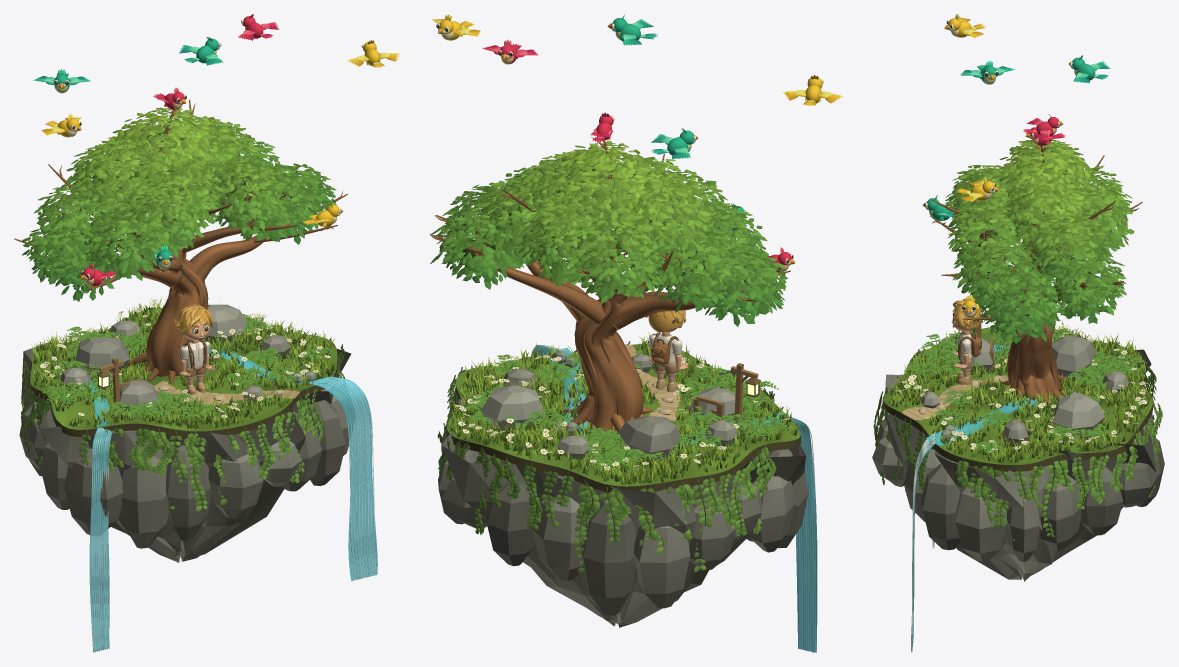
File: ostrov_boy-Bm19IaU4.glb
3 views of the same model, side by side, from view 1: azimuth 30°, elevation 25°; view 2: azimuth 150°, elevation 25°; view 3: azimuth 270°, elevation 25° (orthographic). The views are drawn at different scales.
Parts seen in each view (by area): view 1: Living_tree_leaves, Cliff_and_boulders, Hanging_vines_and_ferns, Windblown_grass, Waterfalls_and_stream, Meadow, Twisted_trunk_and_roots, Waterfall_foam, Earth_under_the_meadow, Wildflowers, Sand_and_path_stones, Perching_branches (+2 smaller); view 2: Living_tree_leaves, Cliff_and_boulders, Hanging_vines_and_ferns, Windblown_grass, Twisted_trunk_and_roots, Meadow, Waterfalls_and_stream, Earth_under_the_meadow, Wildflowers, Sand_and_path_stones, Fence_and_lantern_post, Perching_branches (+1 smaller); view 3: Living_tree_leaves, Cliff_and_boulders, Hanging_vines_and_ferns, Windblown_grass, Meadow, Twisted_trunk_and_roots, Earth_under_the_meadow, Wildflowers, Waterfalls_and_stream, Sand_and_path_stones, Waterfall_foam, Perching_branches (+1 smaller).
Boxes of the visible parts, box(x1,y1,x2,y2) form: Living_tree_leaves: box(22, 107, 336, 301); Cliff_and_boulders: box(19, 304, 354, 562); Hanging_vines_and_ferns: box(21, 302, 345, 511); Windblown_grass: box(31, 296, 336, 428); Waterfalls_and_stream: box(89, 348, 377, 651); Meadow: box(30, 307, 337, 431); Twisted_trunk_and_roots: box(54, 135, 299, 383); Waterfall_foam: box(91, 376, 376, 652); Earth_under_the_meadow: box(30, 361, 337, 438); Wildflowers: box(40, 297, 330, 417); Sand_and_path_stones: box(153, 380, 299, 405); Perching_branches: box(14, 99, 347, 289); Living_tree_leaves: box(430, 141, 787, 326); Cliff_and_boulders: box(438, 351, 808, 627); Hanging_vines_and_ferns: box(437, 341, 802, 574); Windblown_grass: box(448, 332, 801, 485); Twisted_trunk_and_roots: box(464, 157, 751, 432); Meadow: box(446, 344, 800, 486); Waterfalls_and_stream: box(531, 345, 817, 652); Earth_under_the_meadow: box(446, 383, 800, 492); Wildflowers: box(455, 352, 790, 470); Sand_and_path_stones: box(625, 344, 680, 421); Fence_and_lantern_post: box(693, 363, 758, 422); Perching_branches: box(430, 137, 790, 301); Living_tree_leaves: box(945, 139, 1134, 343); Cliff_and_boulders: box(872, 335, 1164, 581); Hanging_vines_and_ferns: box(873, 320, 1162, 540); Windblown_grass: box(886, 320, 1154, 463); Meadow: box(882, 327, 1152, 464); Twisted_trunk_and_roots: box(975, 160, 1102, 406); Earth_under_the_meadow: box(882, 373, 1152, 471); Wildflowers: box(896, 325, 1149, 452); Waterfalls_and_stream: box(912, 337, 1057, 651); Sand_and_path_stones: box(902, 375, 1008, 420); Waterfall_foam: box(911, 337, 949, 652); Perching_branches: box(930, 146, 1142, 337).
Bounding box in the file's own units: 11.97 × 17.66 × 8.53.
